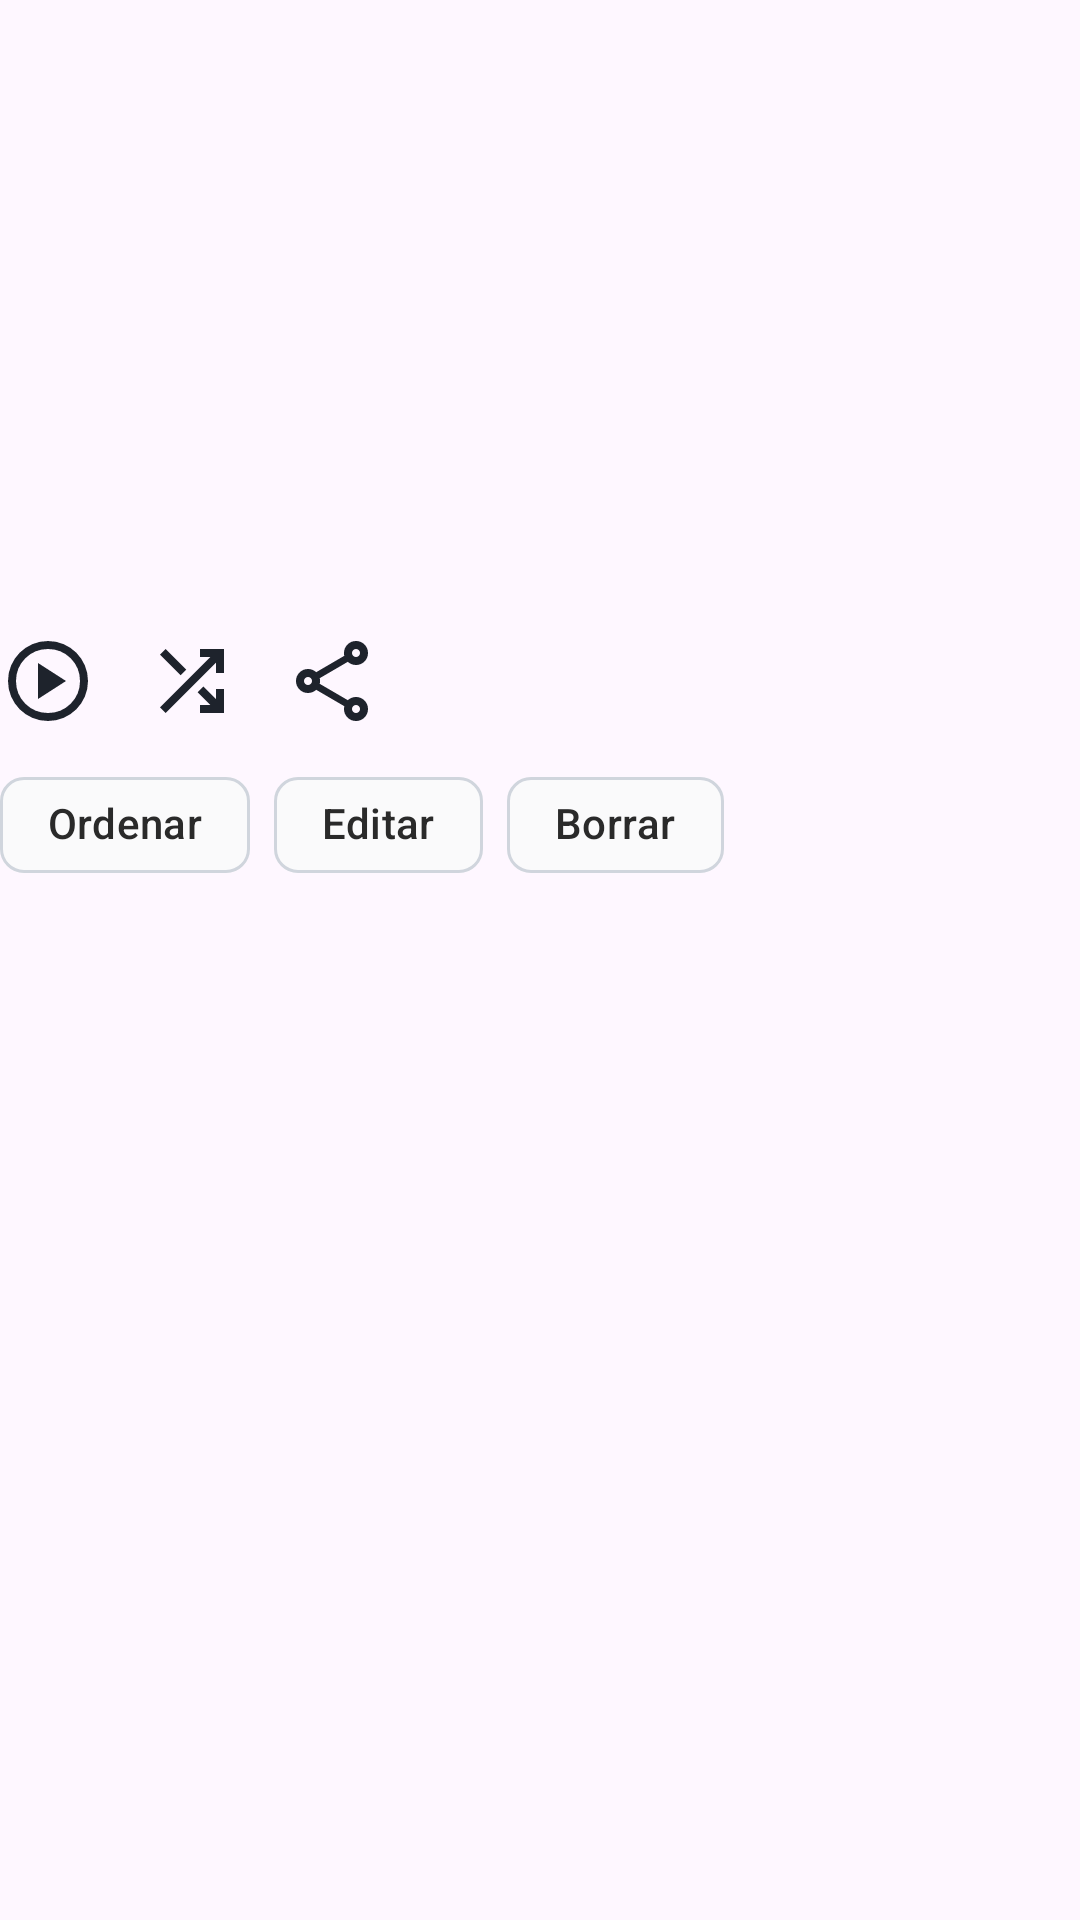

Screen size 1080w x 1920h. Icon name, then its box in pixels as (x1, y1, x2, y2):
Compartir playlist: (296, 641, 368, 721)
Modo aleatorio: (160, 649, 224, 713)
Reproducir playlist: (8, 641, 88, 721)
